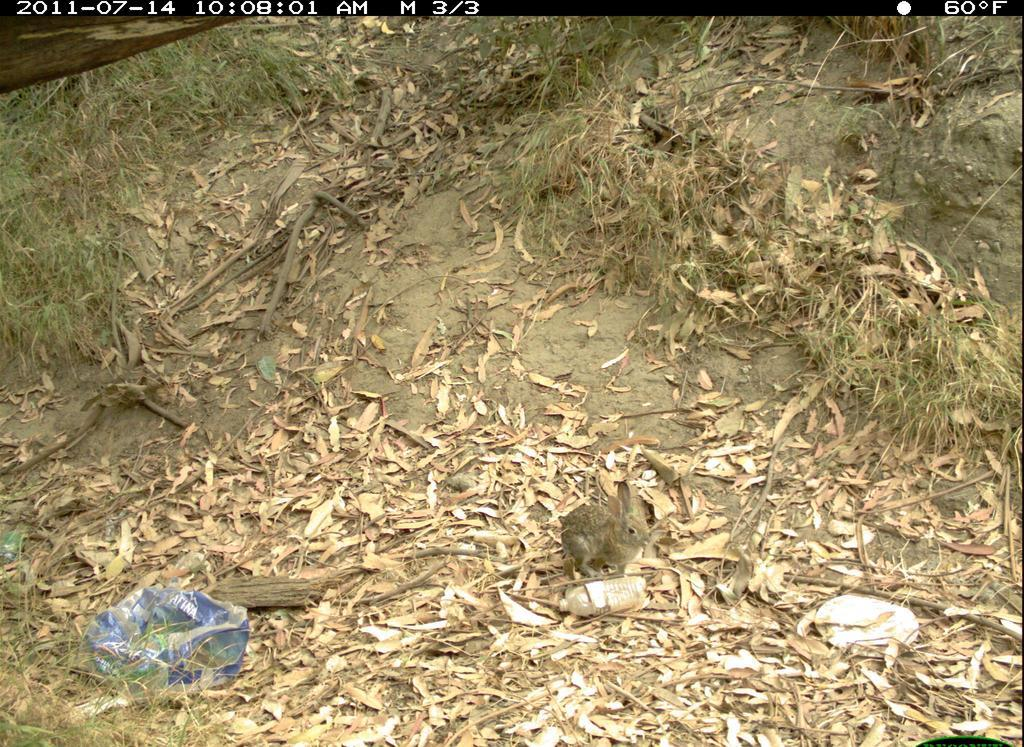rabbit: (536, 473, 665, 594)
